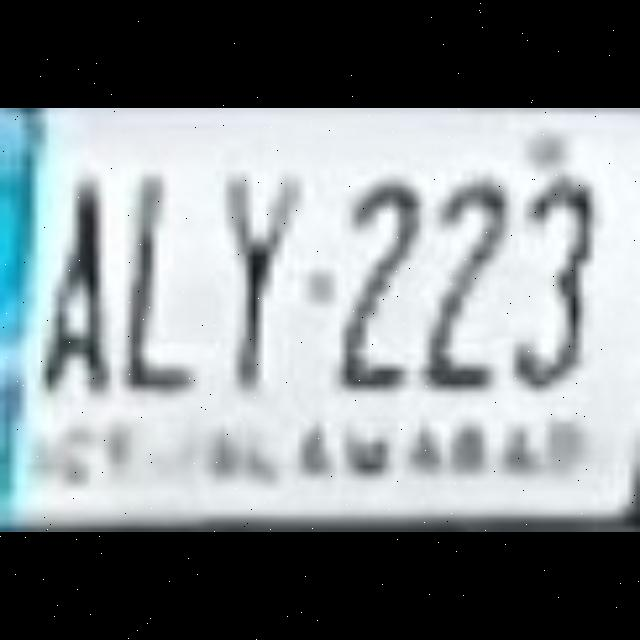2: (342, 145, 426, 397), (427, 146, 511, 398)
3: (511, 148, 595, 400)
A: (37, 150, 121, 402)
L: (118, 150, 202, 402)
Y: (199, 150, 283, 402)
